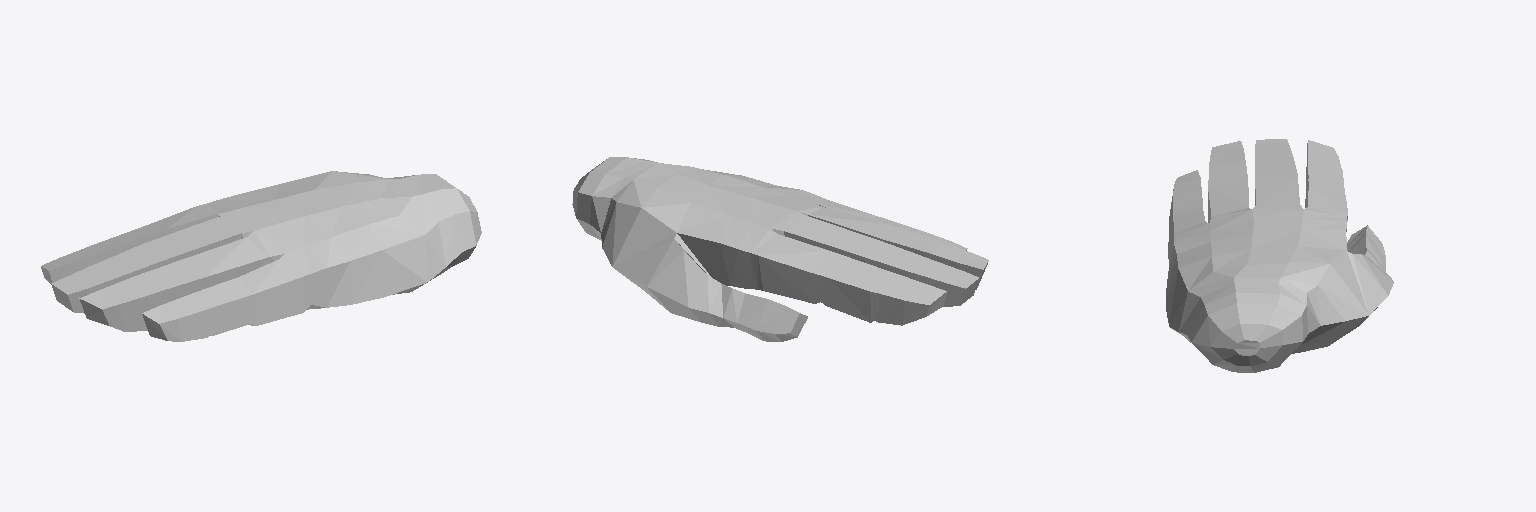
File: lHand.obj
The picture shows the model from 3 angles: view 1: azimuth 30°, elevation 25°; view 2: azimuth 150°, elevation 25°; view 3: azimuth 270°, elevation 25°; orthographic projection.
Parts seen in each view (by area): view 1: Body.001; view 2: Body.001; view 3: Body.001.
Part boxes in pixels (x1,y1,x2,y2): Body.001: (41,171,481,341); Body.001: (572,157,988,341); Body.001: (1166,139,1393,372).
Size of the model in its own units: 0.2052 by 0.0435 by 0.1009.